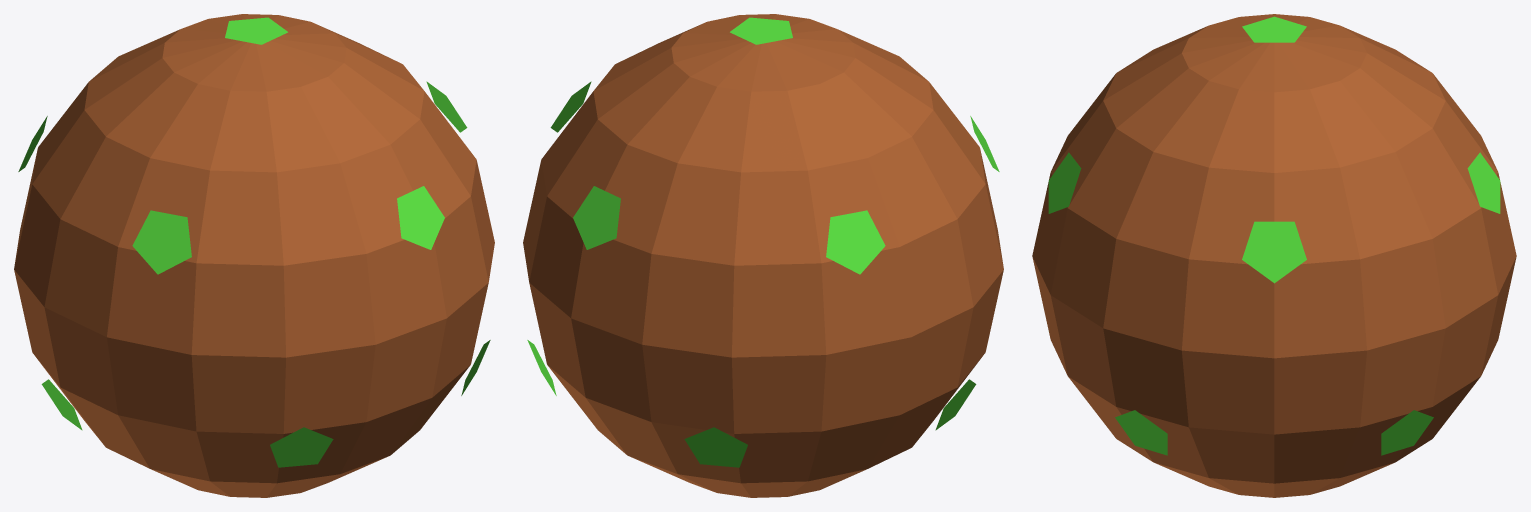
Rendered from planet_empty.fbx.
3 views of the same model, side by side, from view 1: azimuth 30°, elevation 25°; view 2: azimuth 150°, elevation 25°; view 3: azimuth 270°, elevation 25° (orthographic).
Visible parts, largest first — view 1: Earth, EmptyTiles; view 2: Earth, EmptyTiles; view 3: Earth, EmptyTiles.
Part boxes in pixels (<box>): Earth: <box>14,14,494,497</box>; EmptyTiles: <box>18,17,490,467</box>; Earth: <box>523,14,1003,497</box>; EmptyTiles: <box>527,17,999,467</box>; Earth: <box>1032,14,1516,497</box>; EmptyTiles: <box>1048,16,1500,455</box>.
Bounding box in the file's own units: 2300 × 2357 × 2300.
